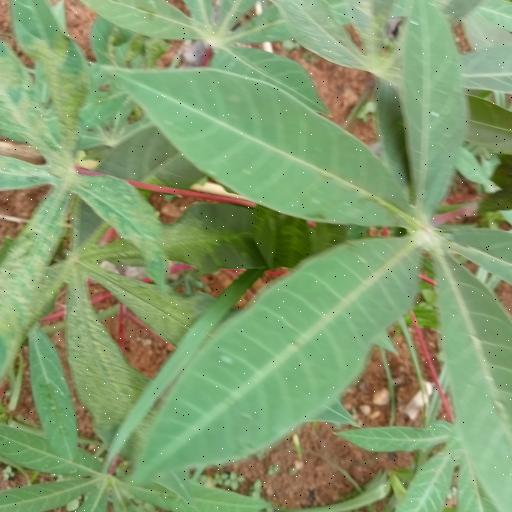Cassava_Mosaic: (109, 48, 512, 486), (0, 27, 155, 352)
